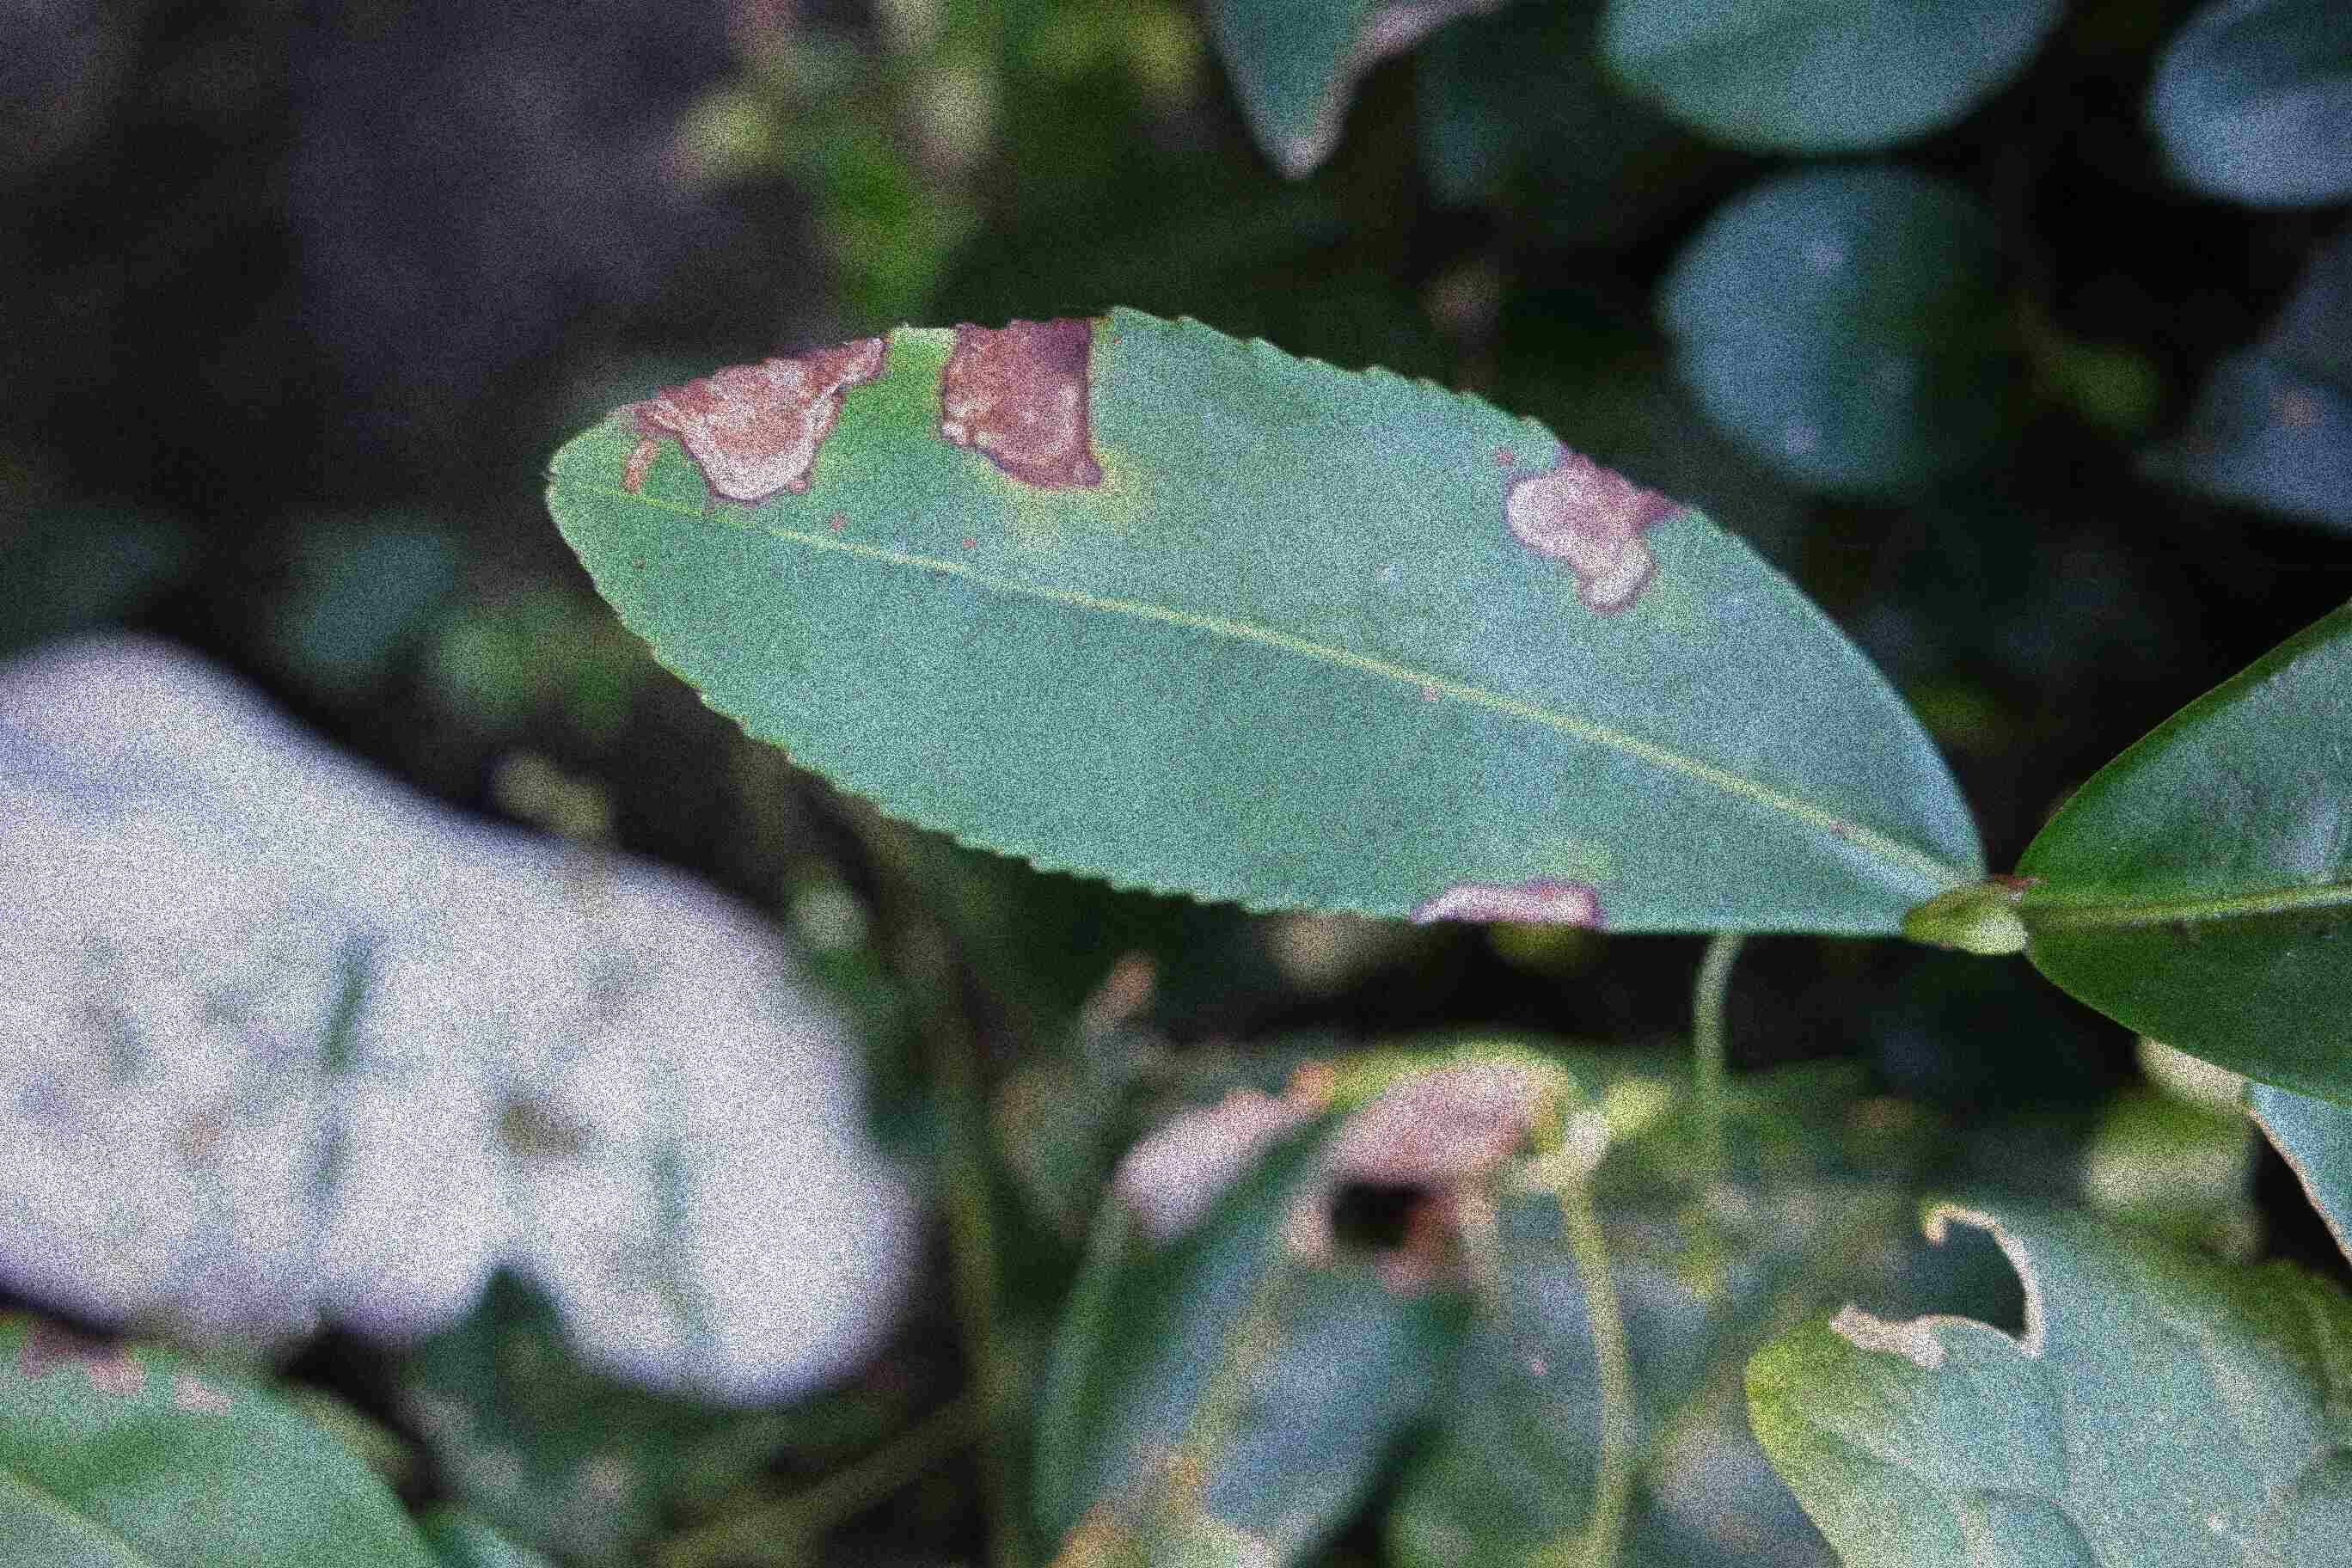tanju_high: (539, 310, 1988, 931)
